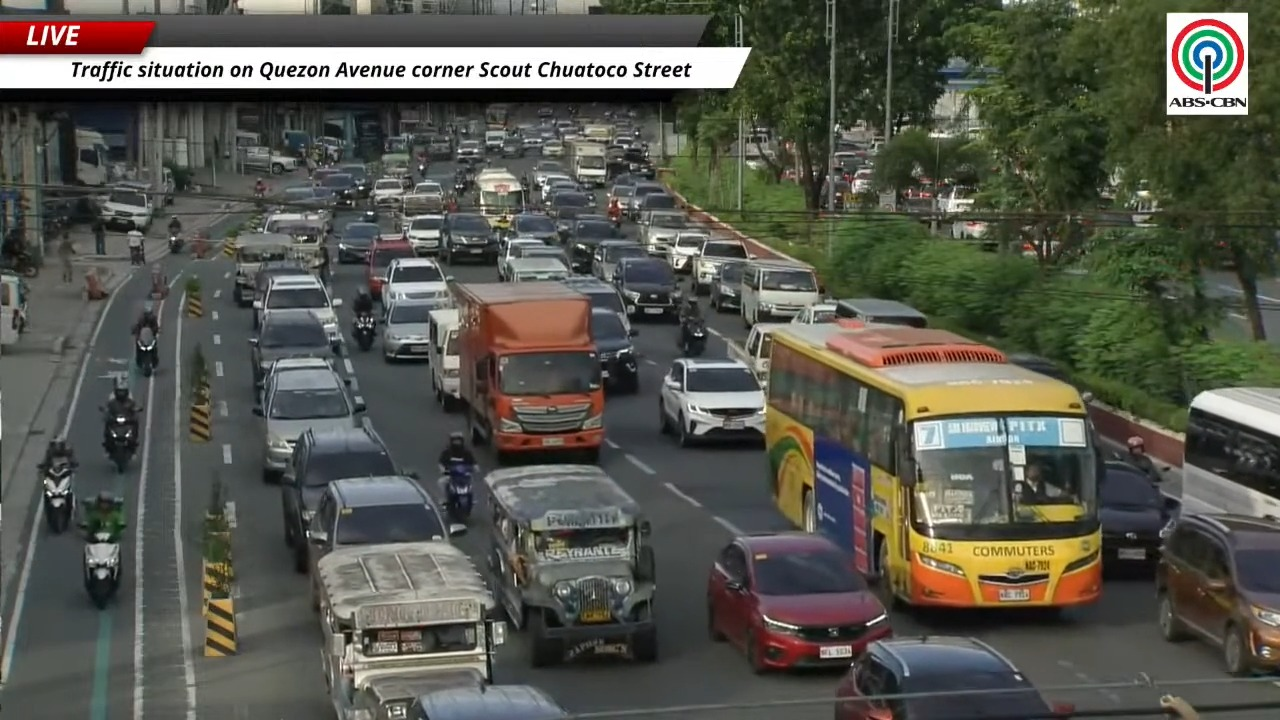bus: (766, 325, 1101, 607), (1181, 387, 1279, 519), (476, 171, 524, 225), (485, 103, 509, 128)
car: (484, 464, 657, 666), (707, 532, 892, 672), (834, 635, 1075, 719), (1157, 514, 1279, 676), (307, 475, 466, 598), (281, 425, 412, 572), (254, 368, 364, 481), (659, 358, 764, 446), (1098, 461, 1173, 567), (249, 309, 333, 388), (406, 681, 570, 719), (254, 275, 342, 343), (612, 258, 681, 319), (590, 309, 638, 393), (382, 298, 444, 361), (562, 276, 630, 332), (381, 257, 446, 310), (564, 213, 620, 273), (692, 237, 750, 294), (366, 234, 416, 300), (441, 213, 498, 264), (247, 260, 310, 306), (99, 184, 152, 233), (592, 239, 647, 281), (639, 211, 689, 256), (547, 194, 591, 242), (498, 238, 546, 280), (264, 356, 335, 384), (666, 230, 709, 273), (403, 214, 445, 257), (337, 222, 381, 263), (709, 262, 744, 313), (564, 213, 621, 242), (625, 181, 666, 219), (508, 257, 569, 282), (511, 213, 558, 243), (320, 173, 360, 207), (537, 170, 575, 203), (339, 163, 373, 198), (520, 245, 569, 268), (543, 178, 585, 201), (791, 302, 837, 323), (532, 160, 566, 188), (372, 177, 404, 206), (637, 192, 678, 214), (605, 184, 633, 207), (455, 140, 484, 161), (427, 136, 452, 159), (411, 179, 444, 195), (611, 173, 638, 191), (501, 137, 524, 157), (520, 134, 543, 153), (541, 139, 564, 157), (537, 106, 554, 117)
motorcycle: (83, 531, 120, 609), (43, 460, 74, 533), (106, 414, 136, 473), (444, 463, 473, 523), (0, 246, 38, 277), (135, 328, 157, 377), (680, 319, 707, 356), (353, 314, 376, 352), (130, 245, 146, 267), (607, 205, 622, 227), (168, 233, 183, 254), (361, 209, 377, 223), (454, 181, 467, 195), (417, 163, 427, 175)
truck: (314, 540, 505, 719), (451, 282, 604, 463), (74, 127, 109, 187), (565, 140, 606, 186), (581, 124, 613, 144)
